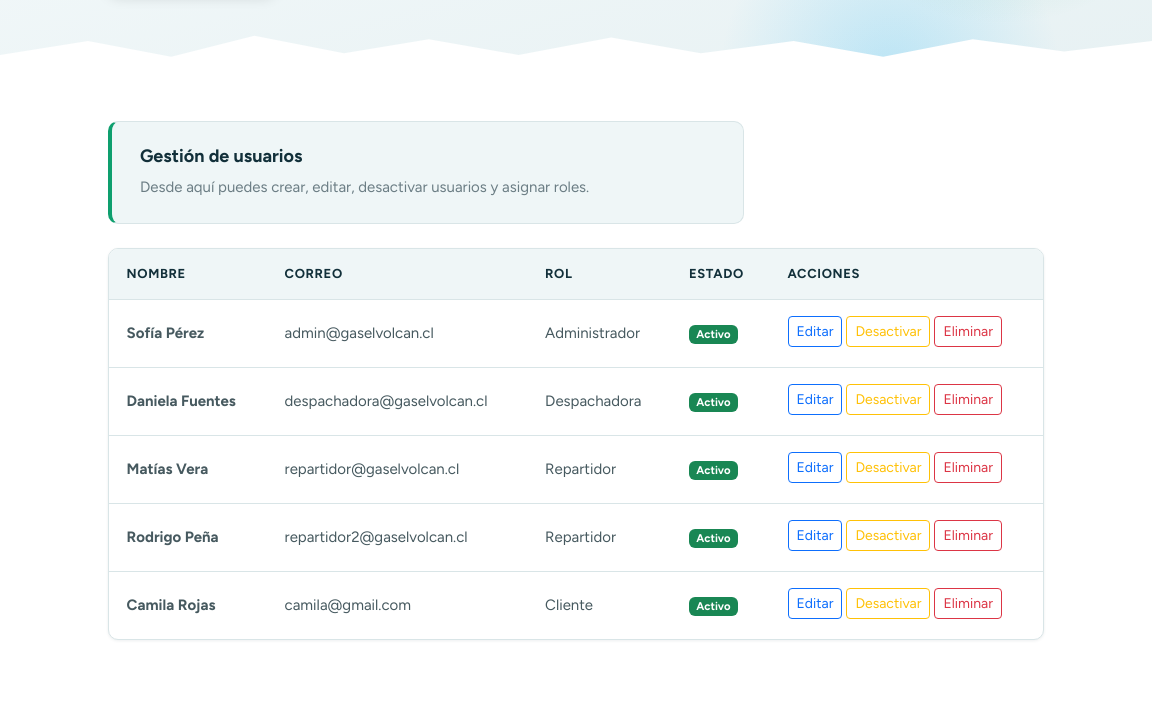
Gestión de usuarios › edita el nombre de una cuenta
The width and height of the screenshot is (1152, 720).
(page scrolled)
Click the button "Editar" in the row of "Camila Rojas". click: [815, 603]
box: [788,588,842,619]
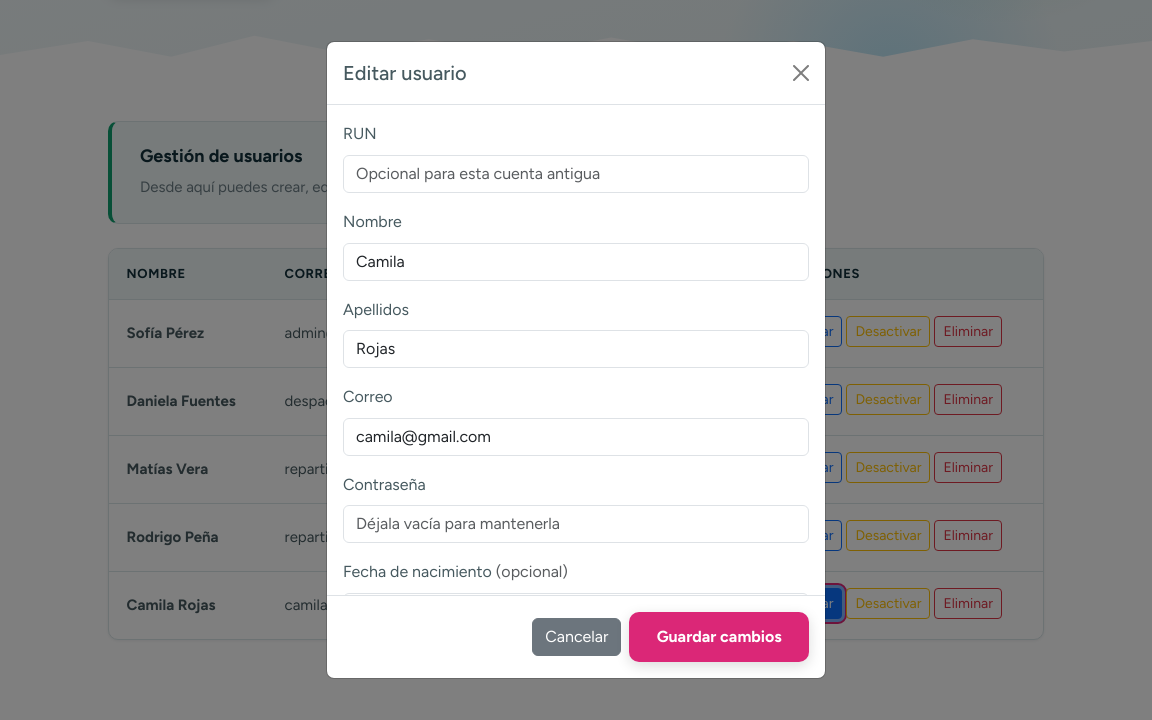
Expected: the field with id "nombreUsuario" holds "Camila", [343,243,809,281]
Expected: the field with id "apellidosUsuario" holds "Rojas"
Replace the text in the field with id "apellidosUsuario" with "Rojas Díaz". click: [576, 349]
box: [343,330,809,368]
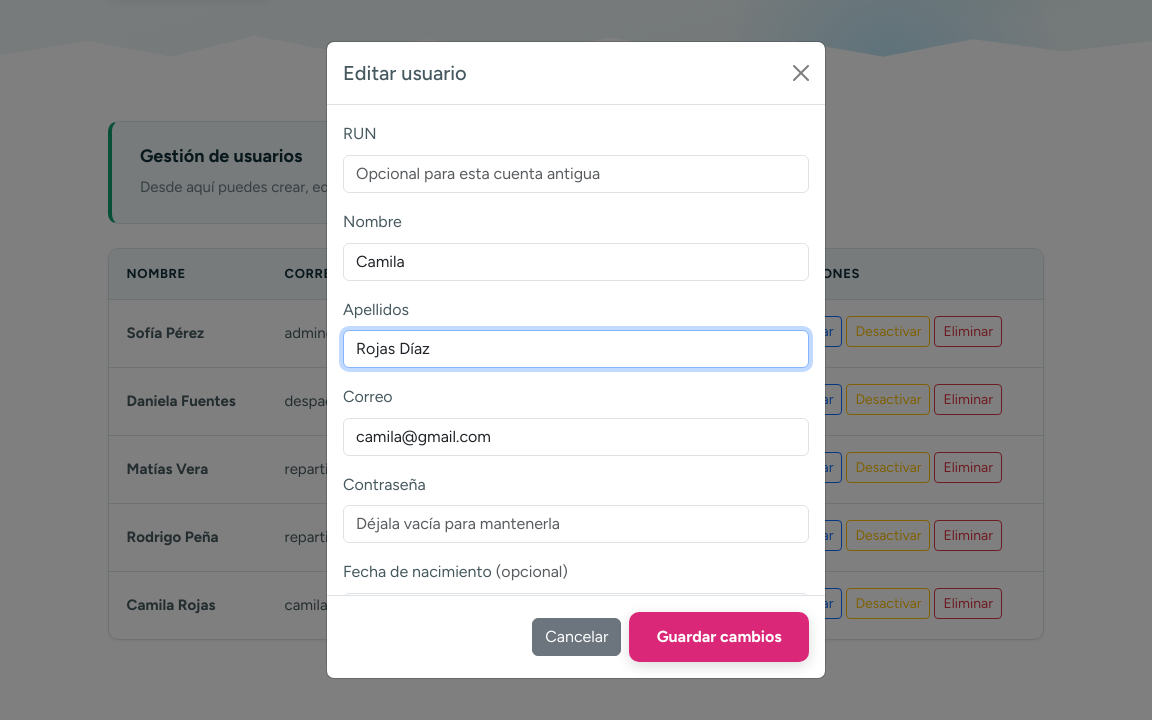
Click the button "Guardar cambios". click: [719, 637]
box: [629,612,809,662]
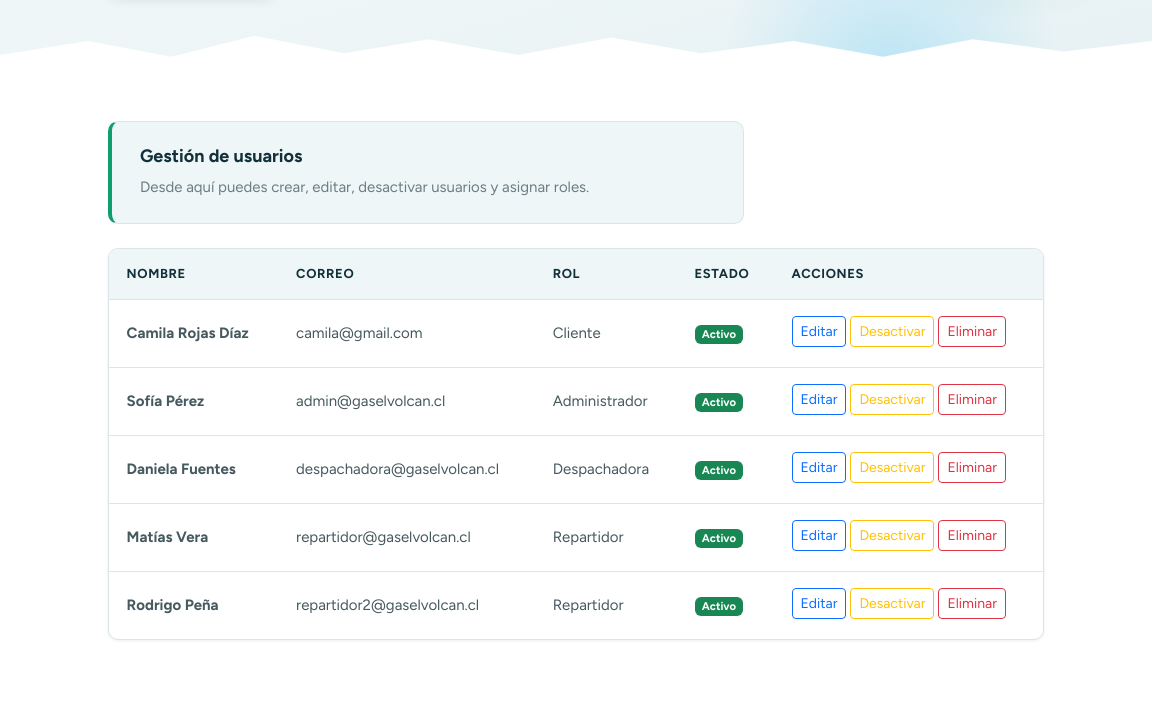
Expected: the text "Camila Rojas Díaz" is shown, [127,324,249,342]
